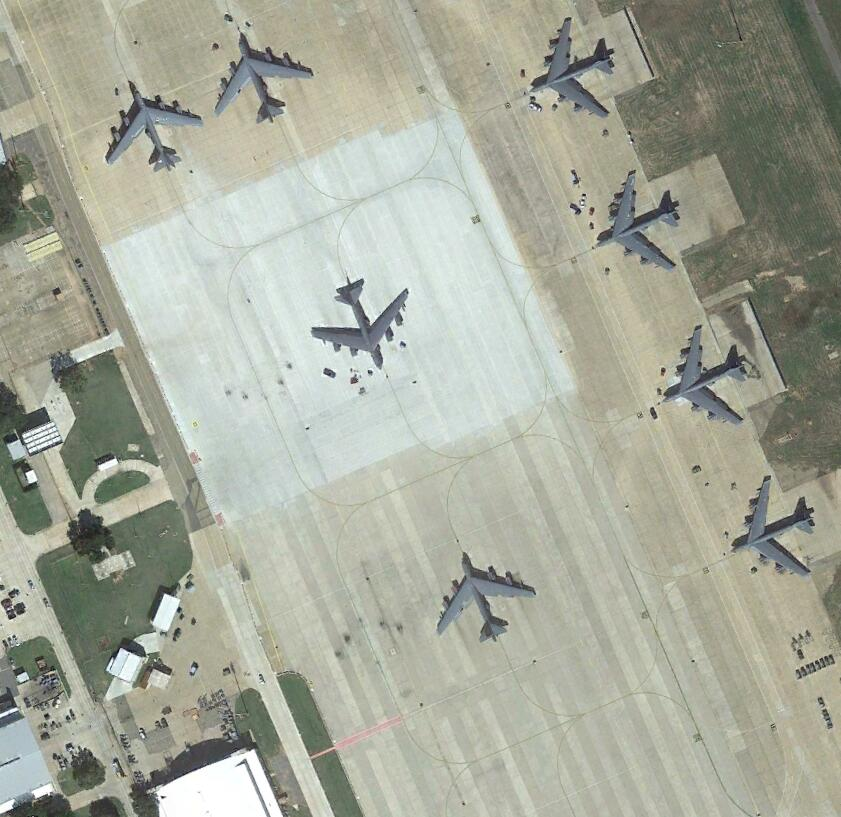A8: (592, 170, 695, 276), (307, 274, 416, 374), (529, 15, 627, 126), (659, 323, 756, 430), (728, 473, 819, 585), (101, 83, 207, 179), (214, 29, 315, 126), (435, 549, 537, 645)
